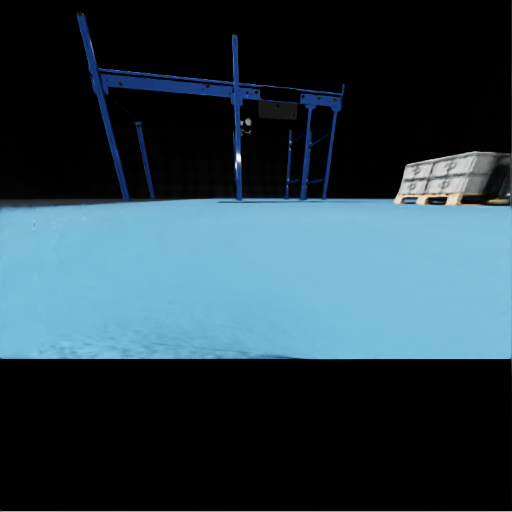transportation_area: (425, 174, 503, 193), (438, 155, 453, 196), (478, 190, 480, 194), (416, 162, 417, 167), (491, 162, 492, 165), (494, 155, 495, 158), (246, 92, 247, 93)
